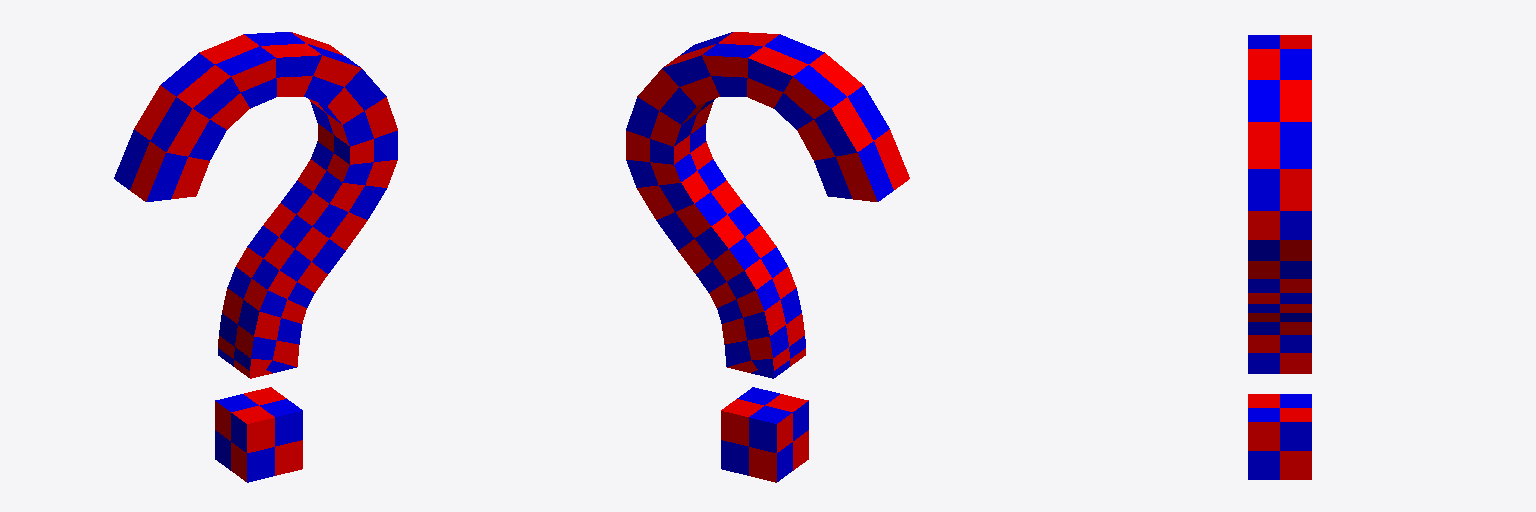
3 views of the same model, side by side, from view 1: azimuth 30°, elevation 25°; view 2: azimuth 150°, elevation 25°; view 3: azimuth 270°, elevation 25° (orthographic).
Parts seen in each view (by area): view 1: text5; view 2: text5; view 3: text5.
Boxes of the visible parts, <box> form: text5: <box>114,32,397,482</box>; text5: <box>626,32,909,482</box>; text5: <box>1248,35,1311,479</box>.
Size of the model in its own units: 0.9027 by 1.43 by 0.2.